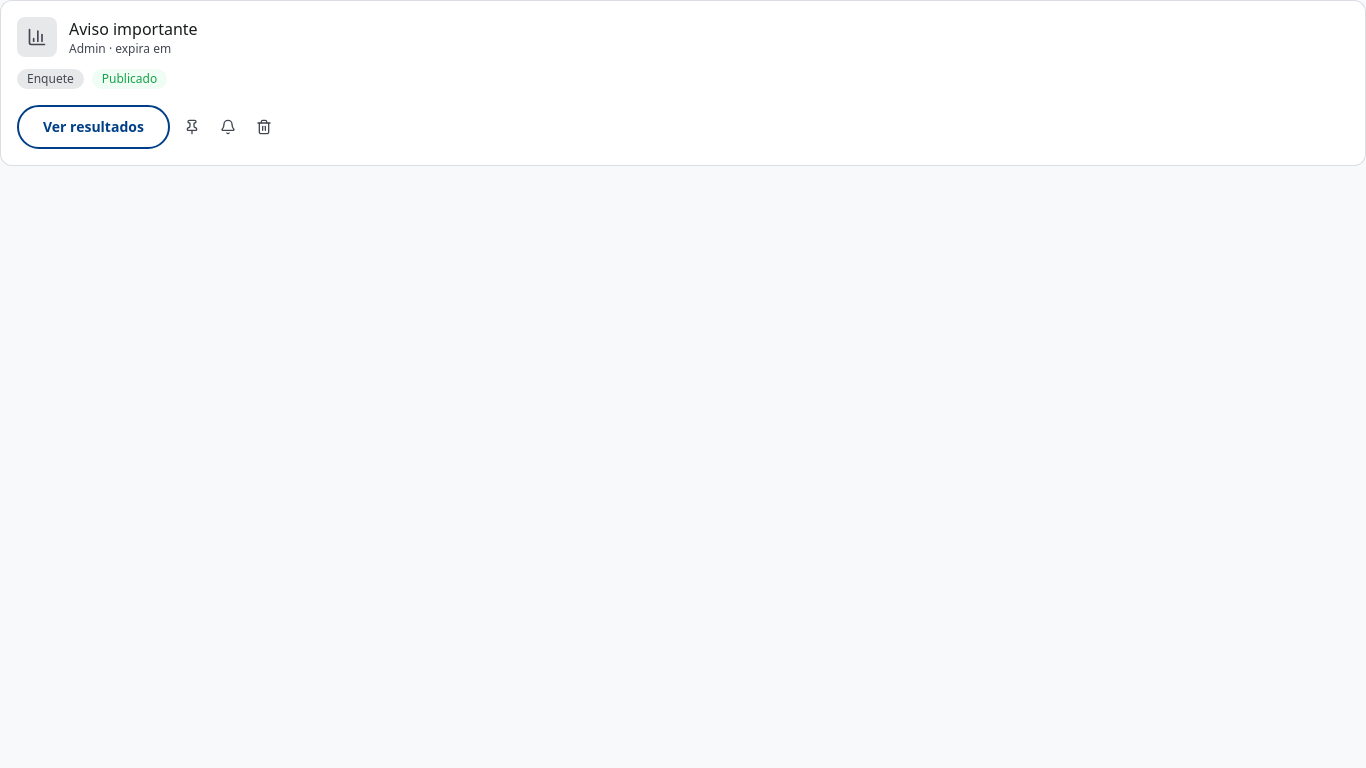
Test: NoticeListItem › mostra botão 'Ver resultados' para type=poll e abre PollResultsPanel
Click the button "Ver resultados": (93, 127) [17,105,170,149]
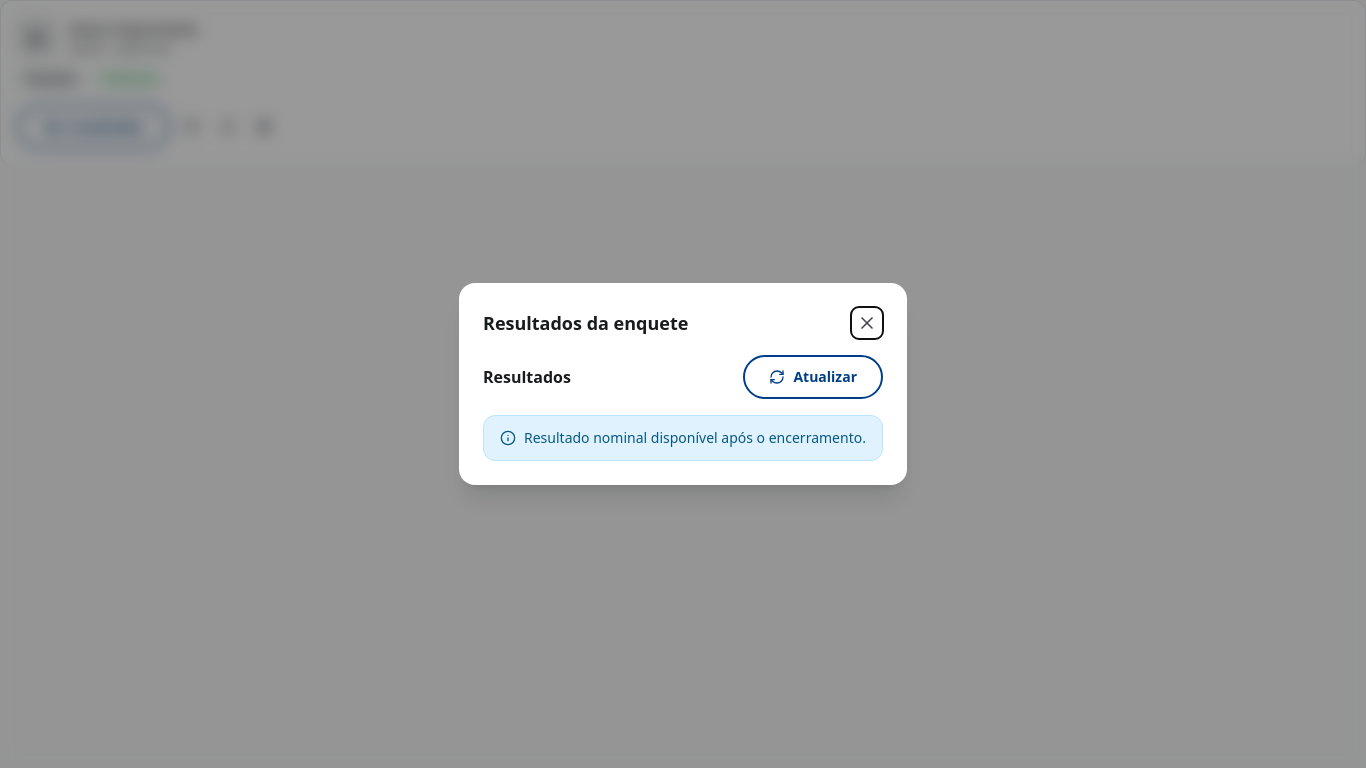
Check: the heading "Resultados da enquete" is shown, box [483,311,688,335]
